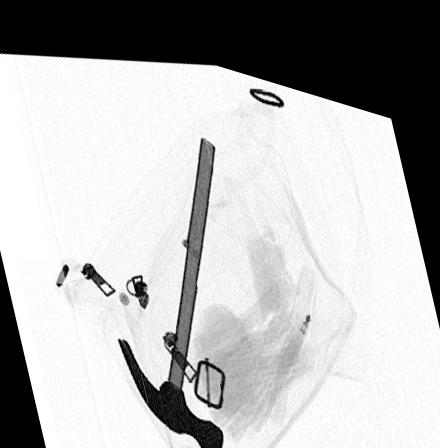Hammer: (116, 123, 223, 443)
